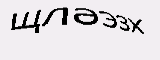З: (116, 14, 131, 32)
Л: (39, 6, 68, 27)
Х: (128, 17, 146, 35)
Щ: (8, 10, 41, 34)
Э: (98, 10, 117, 29)
Ә: (71, 6, 98, 26)
